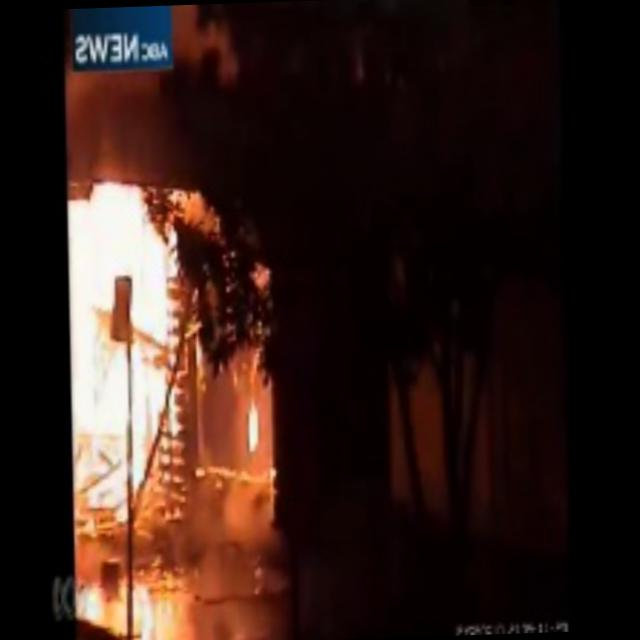fire: (64, 193, 190, 528)
smoke: (64, 66, 163, 182), (177, 2, 238, 86)
